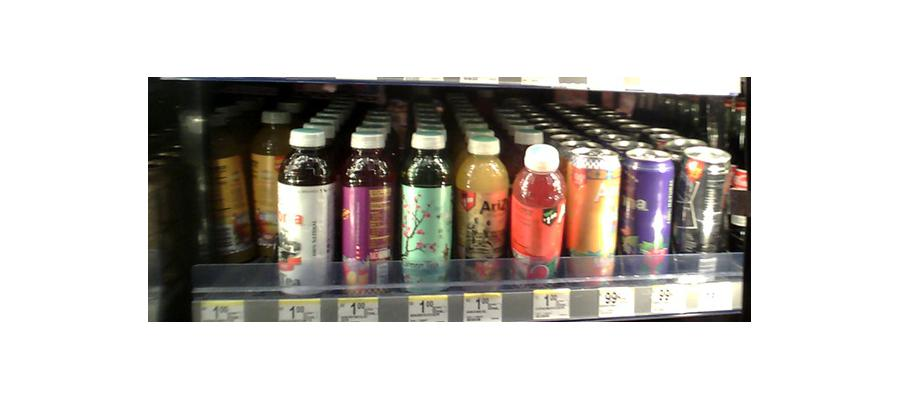bottle: (280, 124, 333, 295), (400, 123, 452, 293), (342, 124, 394, 293), (511, 142, 565, 285), (457, 132, 507, 284), (566, 144, 620, 282), (679, 143, 729, 269), (625, 147, 673, 278), (206, 108, 244, 266)
